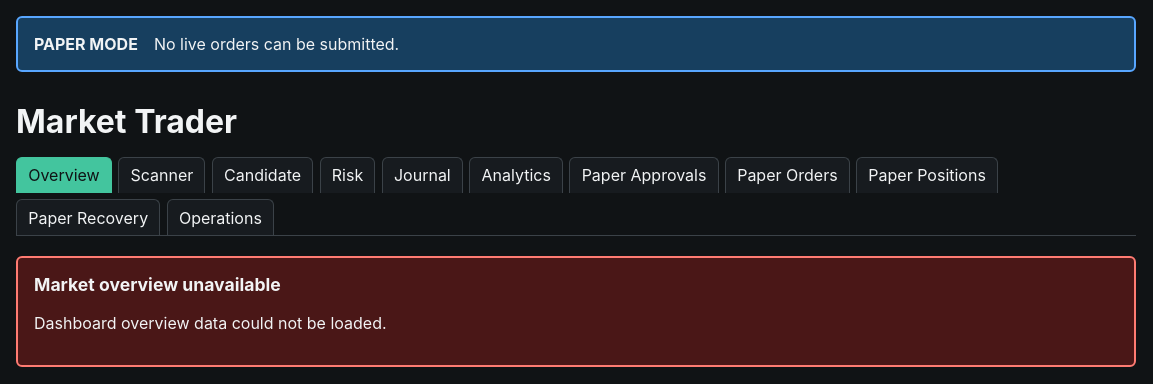
Test: switches dashboard panels with accessible tabs
What coordinates should you click on to do the following:
click the tab "Risk"
I would click on:
 (348, 175)
Its box is [320,157,375,193].
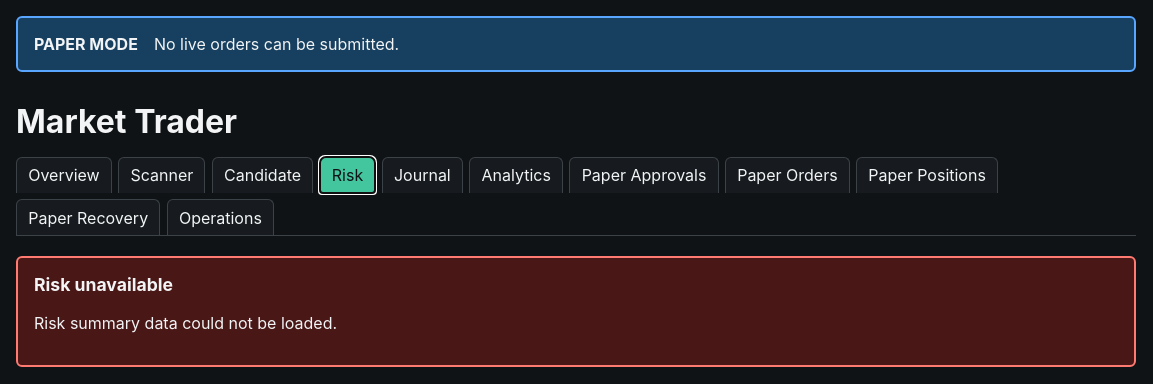
Expected: the panel "Risk" is shown, [34,274,173,295]
